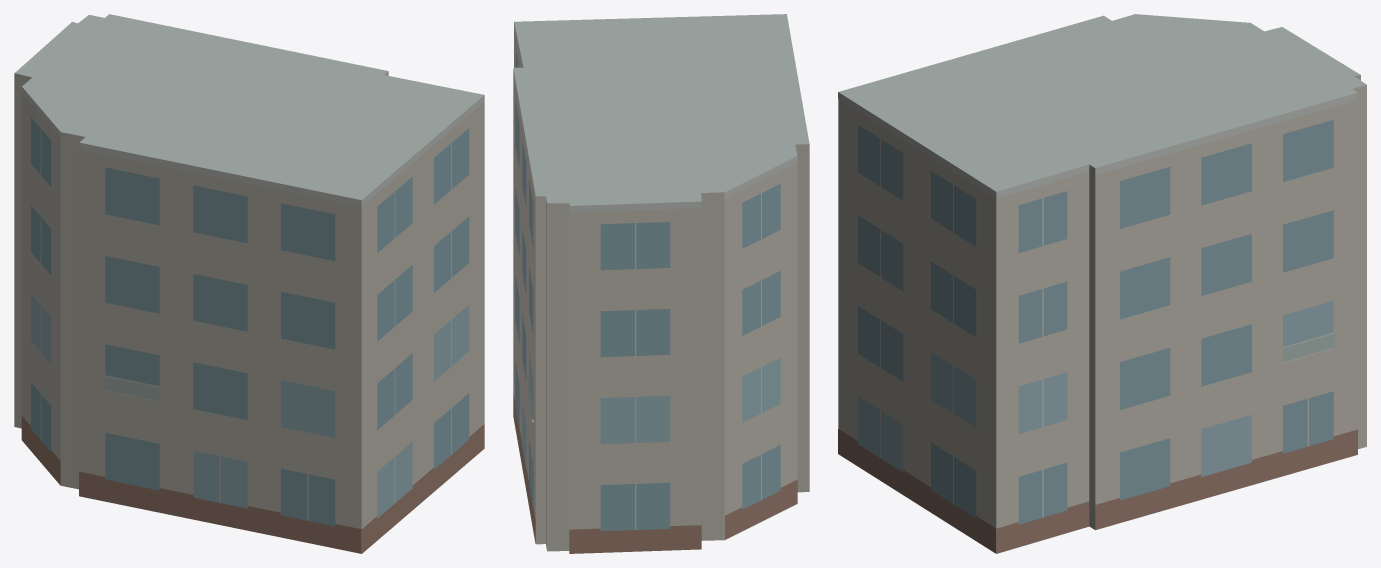
File: survey-upis-32843648.glb
3 renders of one model, left to right at view 1: azimuth 30°, elevation 25°; view 2: azimuth 150°, elevation 25°; view 3: azimuth 270°, elevation 25°, orthographic. The views are drawn at different scales.
Visible parts, largest first — view 1: survey-upis-32843648.tmp; view 2: survey-upis-32843648.tmp; view 3: survey-upis-32843648.tmp.
Part boxes in pixels (x1=…): survey-upis-32843648.tmp: x1=14, y1=14, x2=484, y2=553; survey-upis-32843648.tmp: x1=513, y1=14, x2=809, y2=553; survey-upis-32843648.tmp: x1=838, y1=14, x2=1366, y2=553.
Size of the model in its own units: 13.46 by 12.77 by 16.91.
